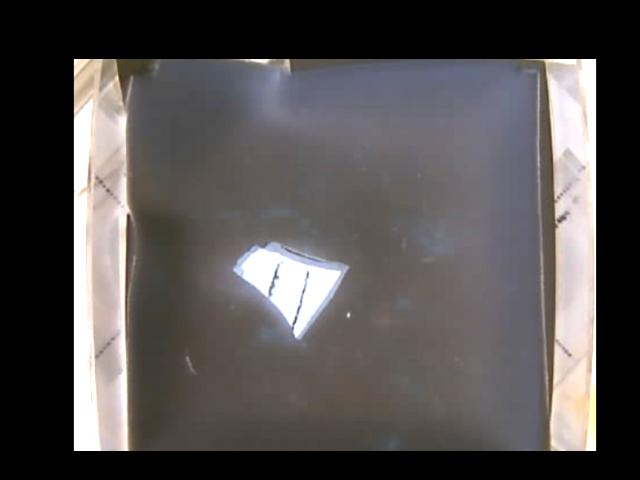China: (232, 238, 348, 337)
